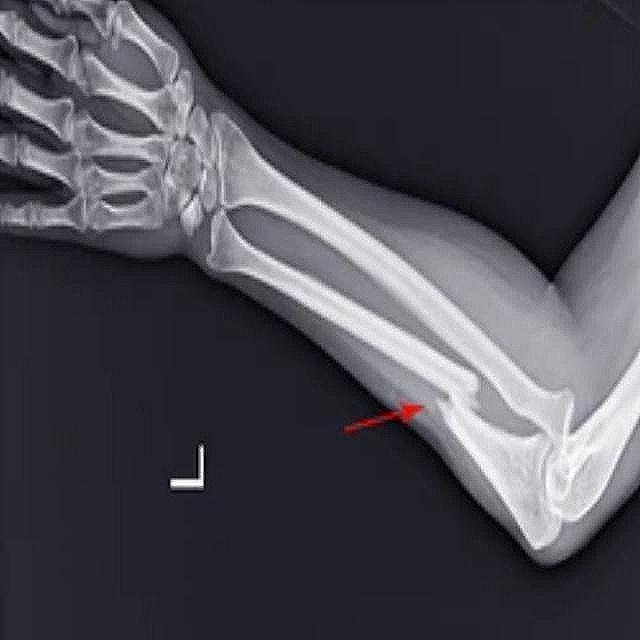bone: (424, 365, 488, 431)
